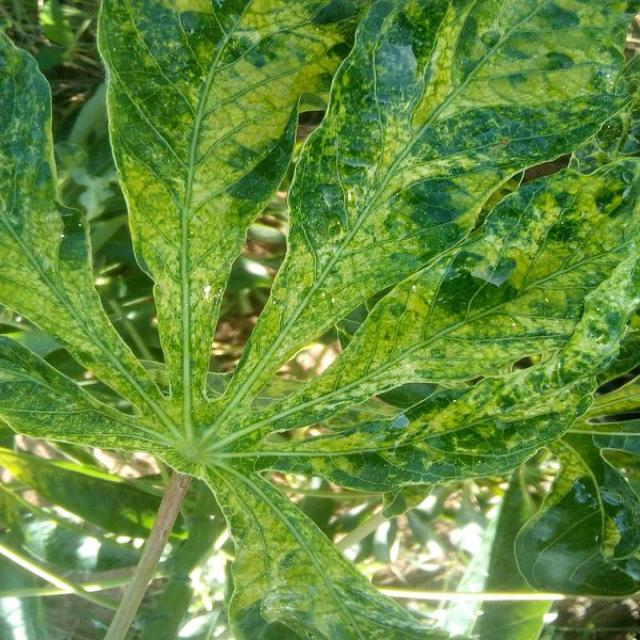cassava leaf: (2, 0, 639, 638), (95, 0, 364, 419)
